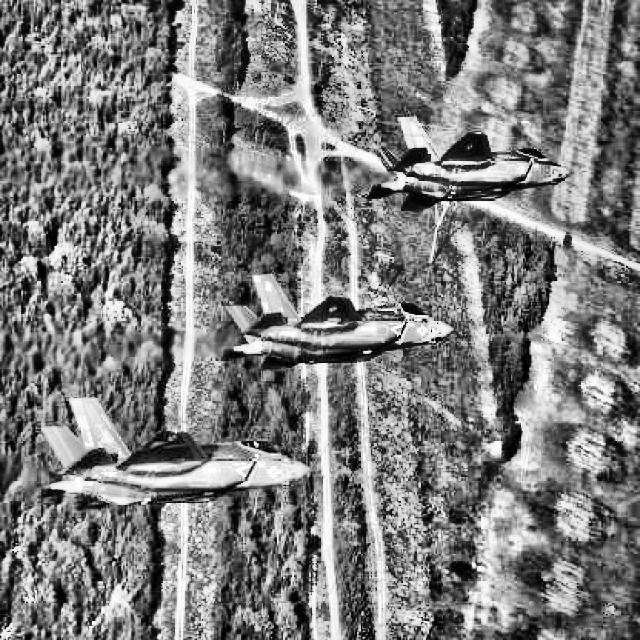F35: (41, 397, 312, 511), (220, 274, 455, 372), (366, 116, 574, 213)
